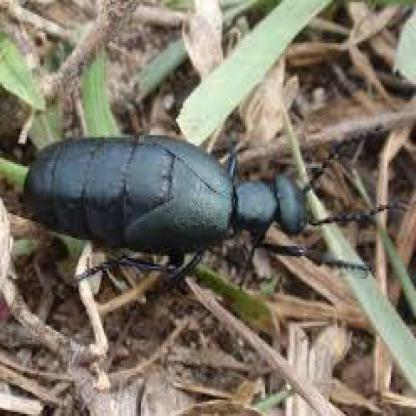blister beetle: (24, 134, 379, 278)
